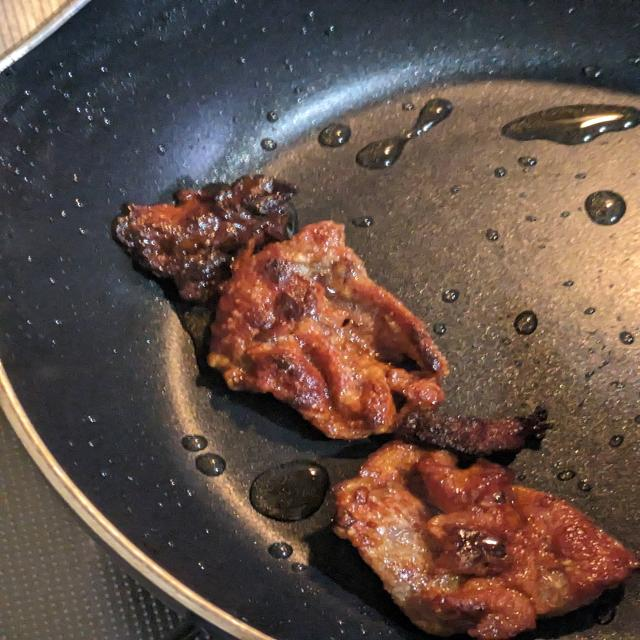overcooked pork: (104, 165, 561, 455), (327, 437, 640, 640)
